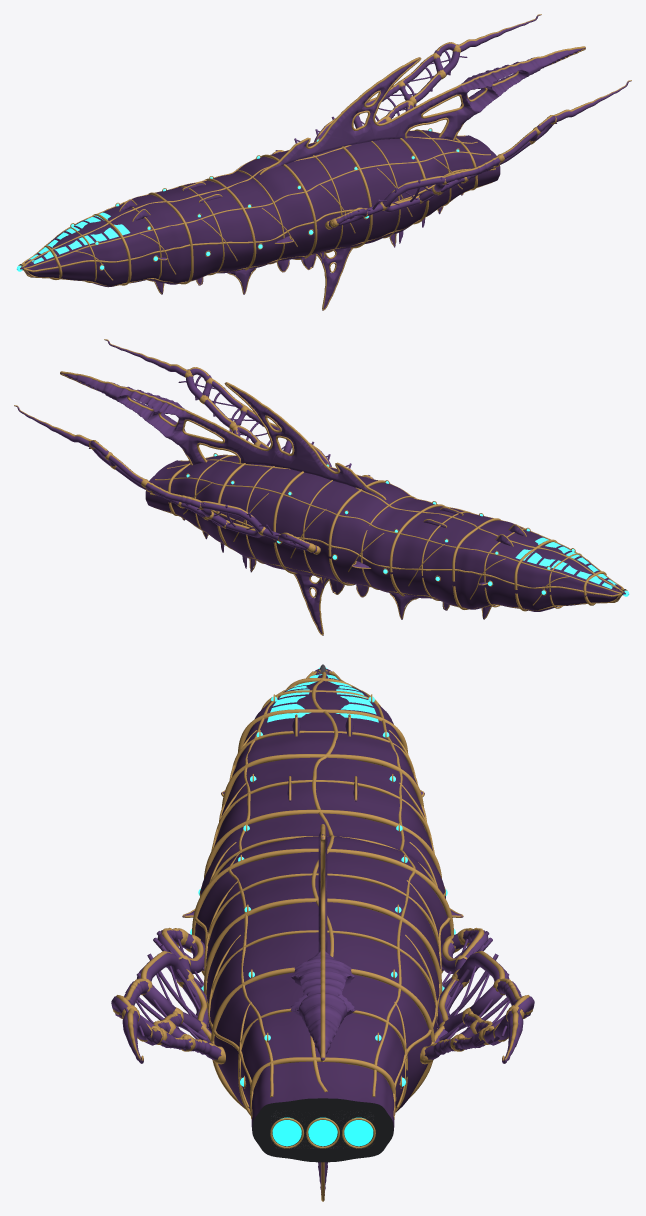
File: model_v37_web.glb
3 renders of one model, top to bottom at view 1: azimuth 30°, elevation 25°; view 2: azimuth 150°, elevation 25°; view 3: azimuth 270°, elevation 25°, orthographic. The views are drawn at different scales.
Visible parts, largest first — view 1: EXT__EXT_Hull, EXT__EXT_Blade__NC, EXT__EXT_Copper, EXT__EXT_Blade, EXT__EXT_Copper__NC, EXT__EXT_Teal; view 2: EXT__EXT_Hull, EXT__EXT_Blade__NC, EXT__EXT_Copper, EXT__EXT_Copper__NC, EXT__EXT_Blade, EXT__EXT_Teal; view 3: EXT__EXT_Hull, EXT__EXT_Copper, EXT__EXT_Blade__NC, EXT__EXT_Blade, EXT__INT_Dark, EXT__EXT_Copper__NC, EXT__EXT_Teal, DRV__DRV_Glow__NC.
Part boxes in pixels (bbox=[...]): EXT__EXT_Hull: bbox=[17, 130, 500, 287]; EXT__EXT_Blade__NC: bbox=[25, 15, 585, 310]; EXT__EXT_Copper: bbox=[19, 80, 631, 293]; EXT__EXT_Blade: bbox=[22, 81, 631, 294]; EXT__EXT_Copper__NC: bbox=[20, 14, 585, 310]; EXT__EXT_Teal: bbox=[29, 212, 130, 263]; EXT__EXT_Hull: bbox=[145, 455, 628, 611]; EXT__EXT_Blade__NC: bbox=[14, 372, 623, 635]; EXT__EXT_Copper: bbox=[104, 339, 626, 611]; EXT__EXT_Copper__NC: bbox=[14, 371, 623, 635]; EXT__EXT_Blade: bbox=[105, 340, 622, 590]; EXT__EXT_Teal: bbox=[515, 537, 616, 588]; EXT__EXT_Hull: bbox=[195, 669, 450, 1133]; EXT__EXT_Copper: bbox=[113, 669, 453, 1119]; EXT__EXT_Blade__NC: bbox=[290, 672, 534, 1195]; EXT__EXT_Blade: bbox=[111, 672, 320, 1063]; EXT__INT_Dark: bbox=[252, 1098, 393, 1162]; EXT__EXT_Copper__NC: bbox=[320, 670, 532, 1201]; EXT__EXT_Teal: bbox=[267, 674, 378, 722]; DRV__DRV_Glow__NC: bbox=[308, 1117, 373, 1146].
Size of the model in its own units: 118 by 45.32 by 37.79.
